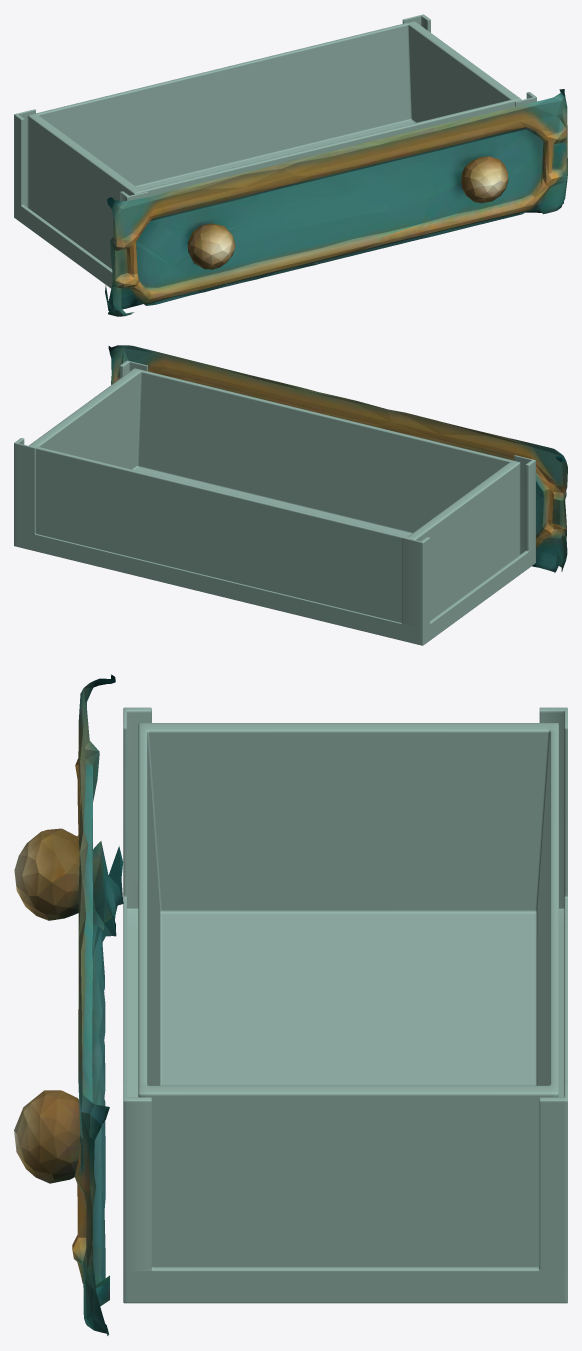
The model's file is drawer_bottom.glb.
3 views of the same model, one above another, from view 1: azimuth 30°, elevation 25°; view 2: azimuth 150°, elevation 25°; view 3: azimuth 270°, elevation 25° (orthographic). The views are drawn at different scales.
Visible parts, largest first — view 1: prefab_drawer_body_1, source_front_cap_0; view 2: prefab_drawer_body_1, source_front_cap_0; view 3: prefab_drawer_body_1, source_front_cap_0.
Boxes of the visible parts, x1,y1,x2,y2 form: prefab_drawer_body_1: (14,14,536,288); source_front_cap_0: (105,89,567,316); prefab_drawer_body_1: (14,360,535,645); source_front_cap_0: (108,345,567,572); prefab_drawer_body_1: (123,707,567,1303); source_front_cap_0: (14,674,123,1335).
Bounding box in the file's own units: 0.4272 × 0.1031 × 0.2291.
2 materials, 1 textured.
